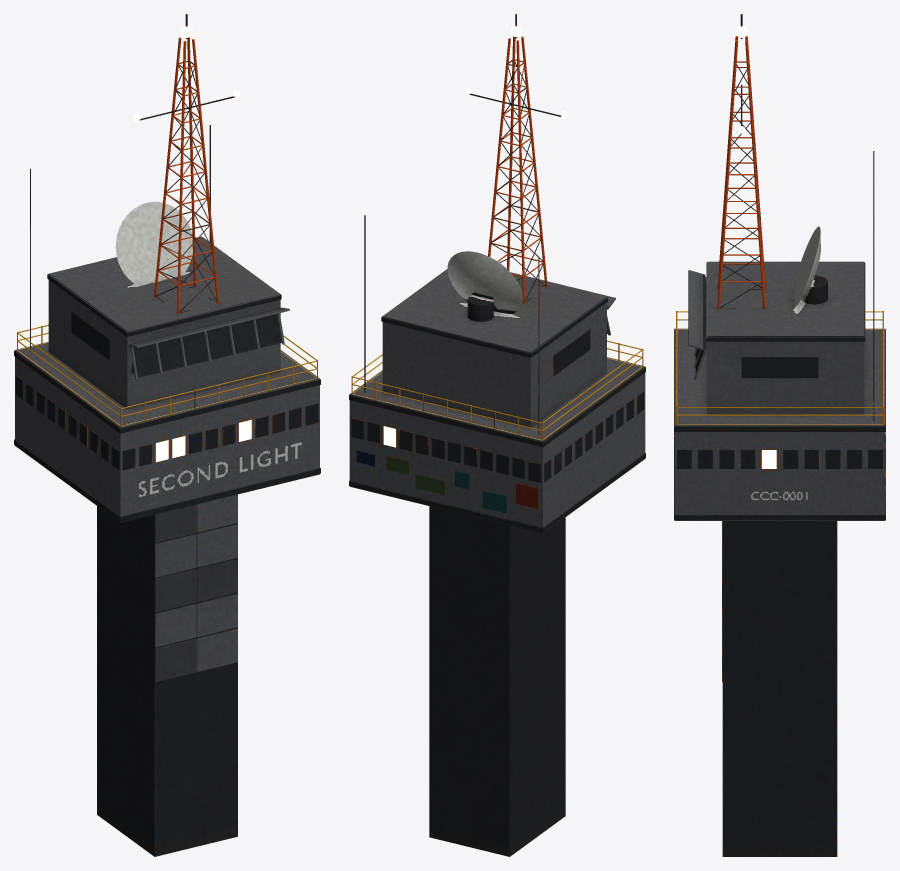
Rendered from bridge_tower.glb.
3 views of the same model, side by side, from view 1: azimuth 30°, elevation 25°; view 2: azimuth 150°, elevation 25°; view 3: azimuth 270°, elevation 25° (orthographic). The views are drawn at different scales.
Parts seen in each view (by area): view 1: bridge_tower; view 2: bridge_tower; view 3: bridge_tower.
Part boxes in pixels (x1,y1,x2,y2): bridge_tower: [14, 14, 320, 856]; bridge_tower: [349, 14, 645, 856]; bridge_tower: [674, 14, 885, 856].
Size of the model in its own units: 12.06 by 47.4 by 11.06.
2 materials, 2 textured.
